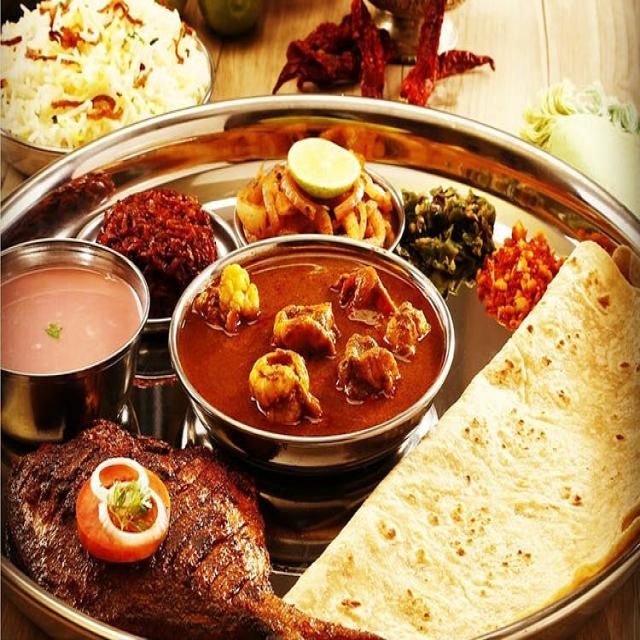non veg meals: (0, 116, 640, 638)
